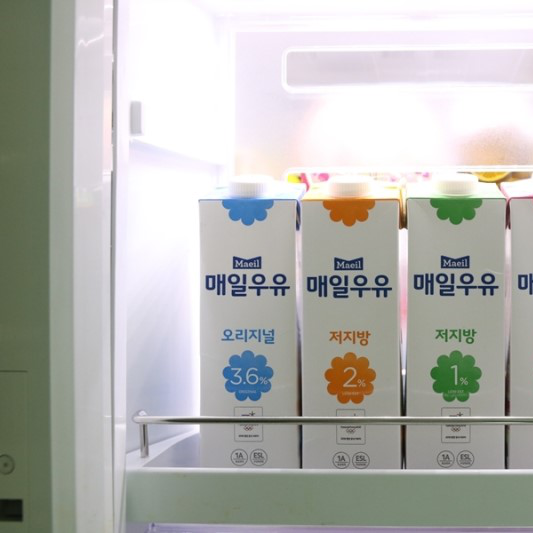milk: (198, 175, 533, 468)
